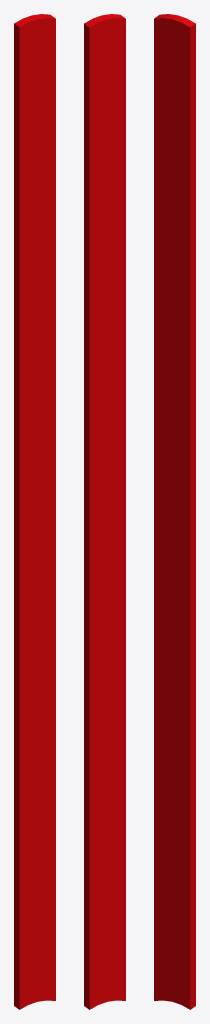
Rendered from thermometer_bar.glb.
The picture shows the model from 3 angles, left to right: view 1: azimuth 30°, elevation 25°; view 2: azimuth 210°, elevation 25°; view 3: azimuth 330°, elevation 25°; orthographic projection.
Visible parts, largest first — view 1: Circle.001; view 2: Circle.001; view 3: Circle.001.
Boxes of the visible parts, <box> form: Circle.001: <box>14,14,55,1009</box>; Circle.001: <box>84,14,125,1009</box>; Circle.001: <box>154,14,195,1009</box>.
Size of the model in its own units: 0.1742 by 4.52 by 0.0455.
